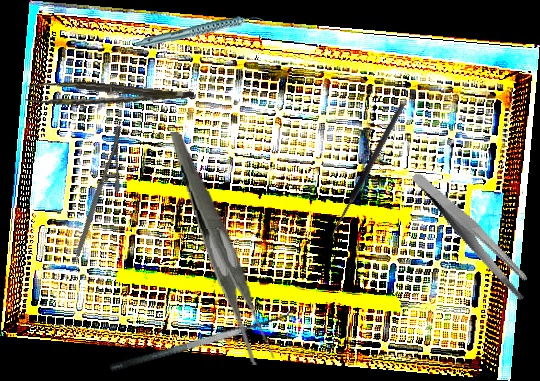Dressing Forceps: (169, 127, 276, 369), (411, 150, 535, 319)
Handpiece: (135, 13, 265, 50)
Hook Surgical: (328, 102, 412, 244)
Needle Holder: (38, 123, 158, 258)
Spatula Surgical: (104, 300, 294, 373)
Tissue Forceps: (25, 74, 194, 119)
